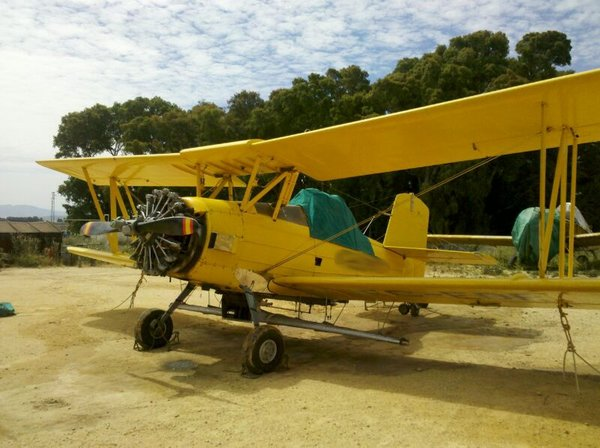Aeronef_de_service: (29, 65, 600, 372)
